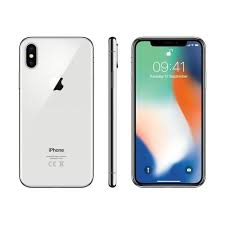iphone: (18, 34, 93, 189), (131, 36, 205, 191)
iphone8: (130, 35, 204, 190)
